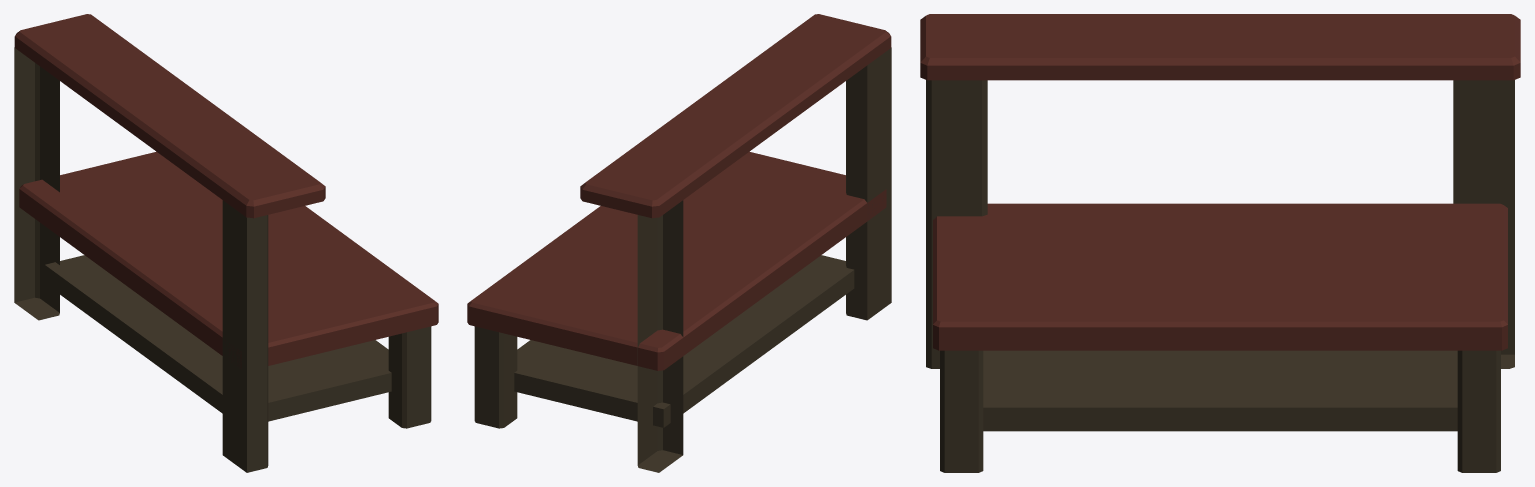
Rendered from table_for_bottles.gltf.
The picture shows the model from 3 angles, left to right: view 1: azimuth 30°, elevation 25°; view 2: azimuth 150°, elevation 25°; view 3: azimuth 270°, elevation 25°; orthographic projection. The views are drawn at different scales.
Parts seen in each view (by area): view 1: Cube; view 2: Cube; view 3: Cube.
Boxes of the visible parts, bbox=[...] form: Cube: bbox=[14, 14, 438, 472]; Cube: bbox=[467, 14, 891, 472]; Cube: bbox=[920, 14, 1520, 472].
Bounding box in the file's own units: 1 × 1.32 × 2.09.
